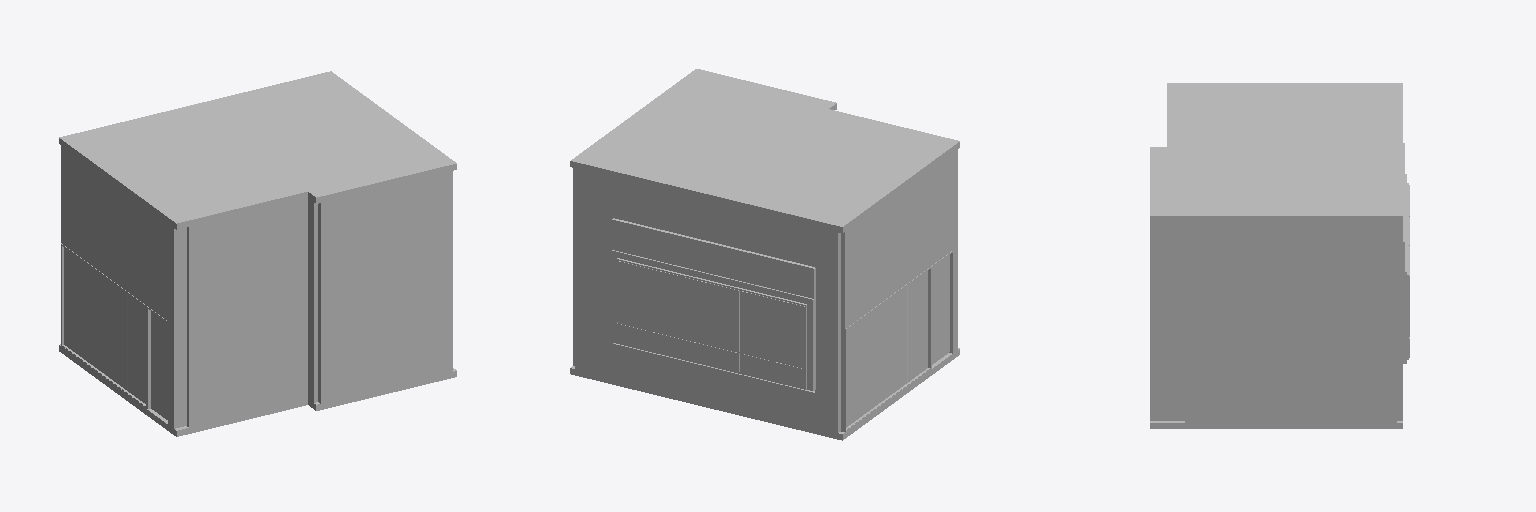
Rendered from YCR eleVR Room 14_Merged.obj.
3 renders of one model, left to right at view 1: azimuth 30°, elevation 25°; view 2: azimuth 150°, elevation 25°; view 3: azimuth 270°, elevation 25°, orthographic.
Parts seen in each view (by area): view 1: pCube72, Panes; view 2: pCube72, Window_Panes, Panes; view 3: pCube72.
Part boxes in pixels (x1,y1,x2,y2): pCube72: (59, 71, 456, 436); Panes: (64, 247, 145, 403); pCube72: (570, 69, 959, 440); Window_Panes: (617, 261, 804, 387); Panes: (846, 271, 927, 427); pCube72: (1150, 83, 1408, 428).
Size of the model in its own units: 688 by 515 by 566.